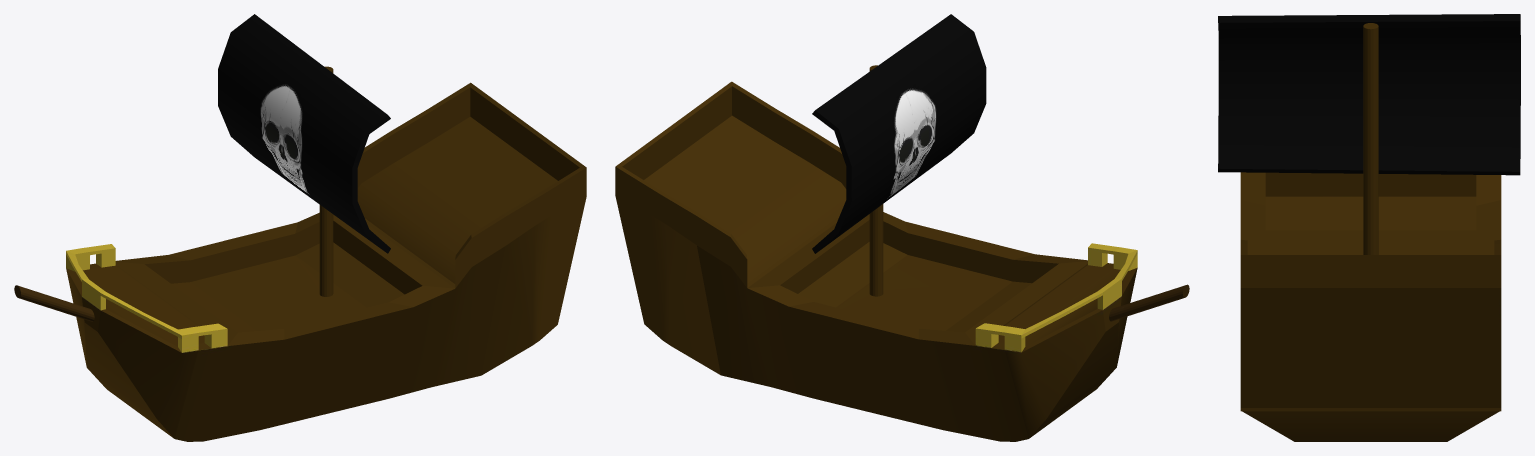
The model's file is Pirate Ship Model.fbx.
3 views of the same model, side by side, from view 1: azimuth 30°, elevation 25°; view 2: azimuth 150°, elevation 25°; view 3: azimuth 270°, elevation 25° (orthographic). The views are drawn at different scales.
Visible parts, largest first — view 1: Pirate_Ship_Sail1; view 2: Pirate_Ship_Sail1; view 3: Pirate_Ship_Sail1.
Boxes of the visible parts, x1=… form: Pirate_Ship_Sail1: x1=14, y1=14, x2=586, y2=441; Pirate_Ship_Sail1: x1=615, y1=14, x2=1189, y2=441; Pirate_Ship_Sail1: x1=1218, y1=14, x2=1520, y2=441.
Size of the model in its own units: 17.3 by 10.34 by 7.9.
1 material, 1 textured.
